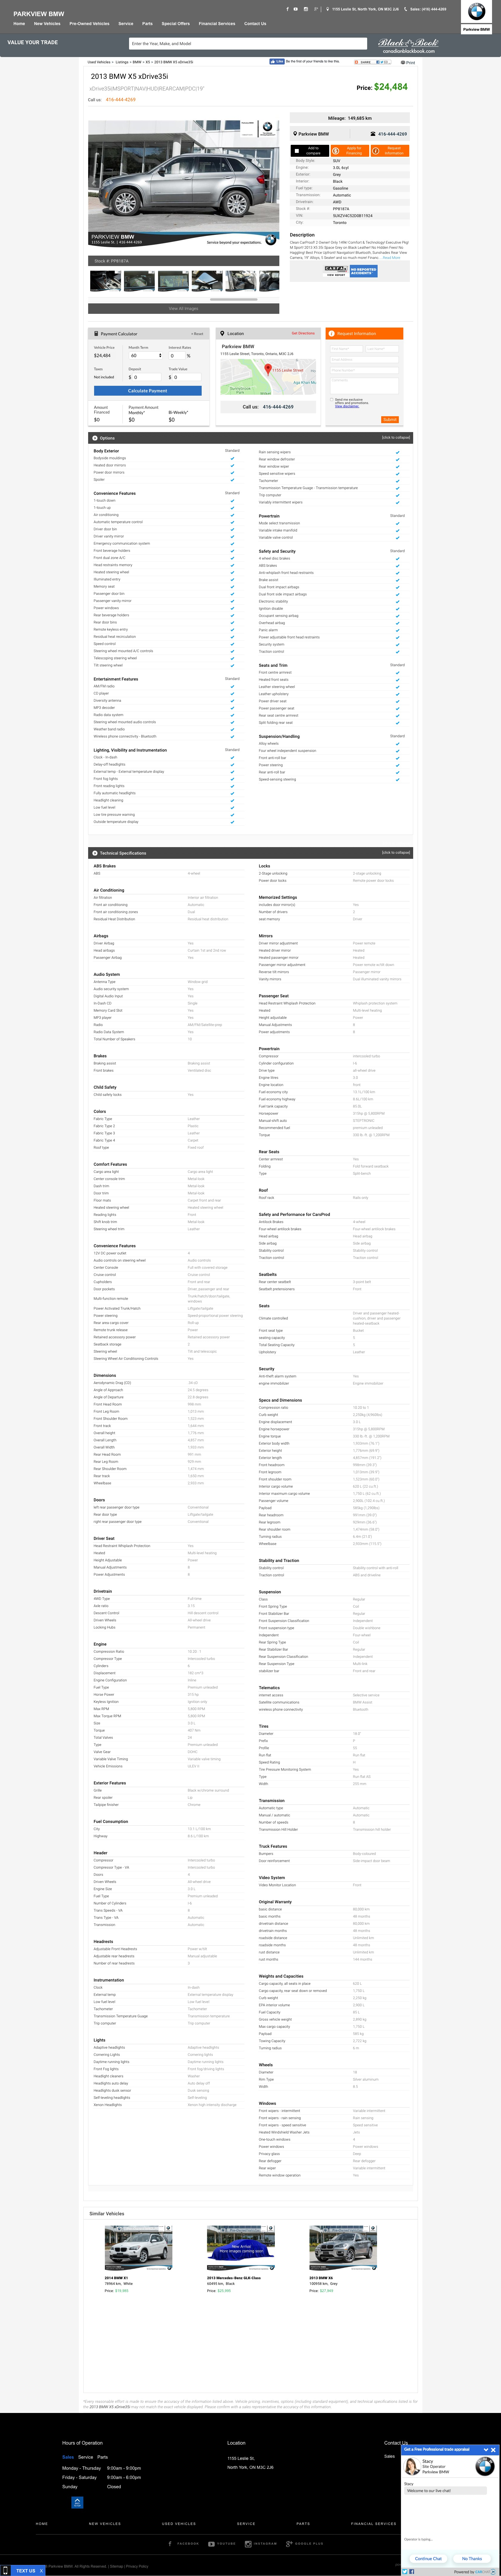car: (271, 181, 278, 189)
